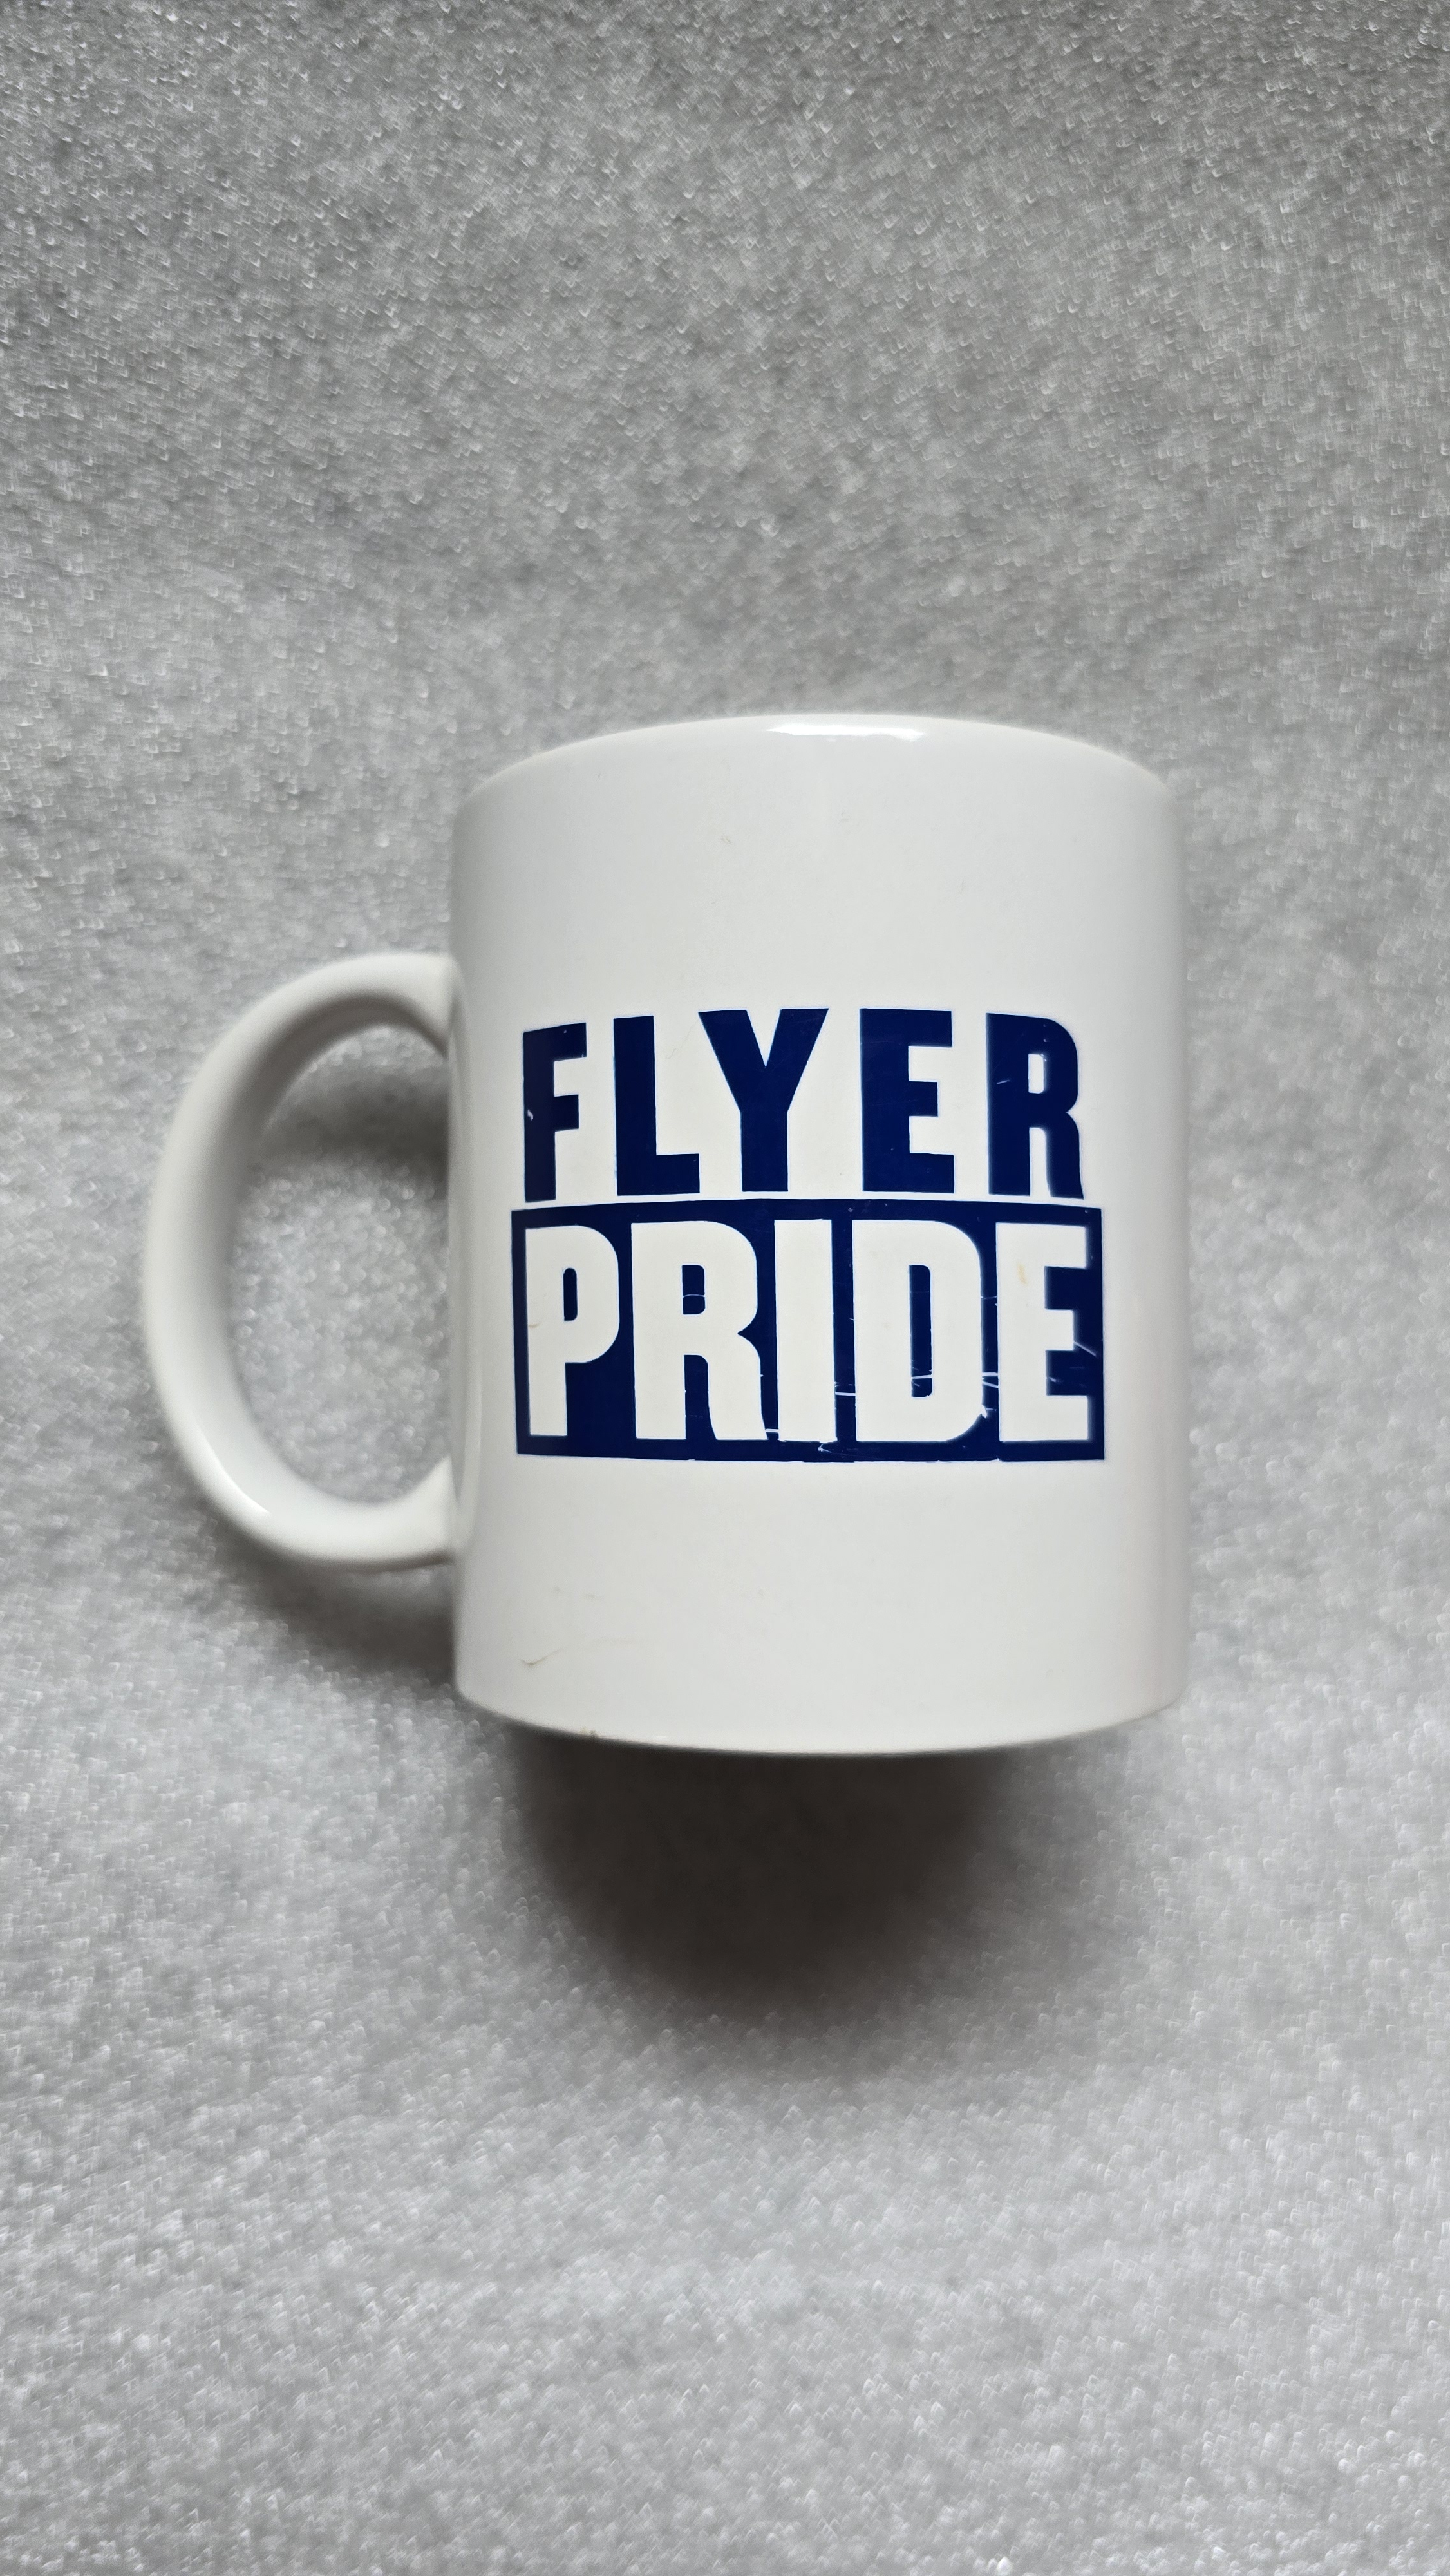mug: (131, 665, 1284, 1851)
